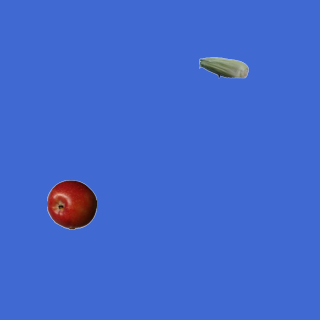Apple Braeburn: (46, 179, 96, 229)
Corn Husk: (198, 42, 248, 92)
